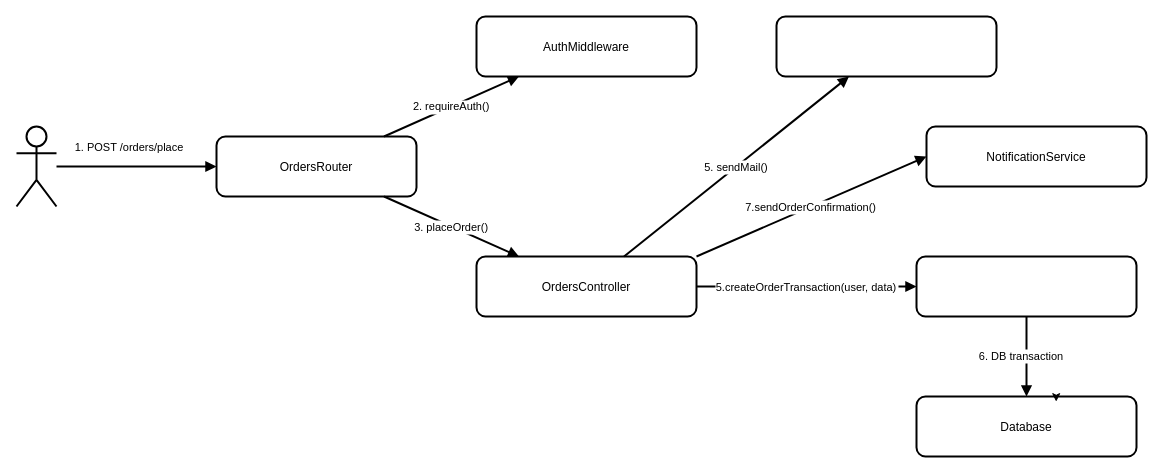
The diagram is 1163 pixels wide and 473 high, and some of its shapes have lost their labels. The shapes that lost their labels are listed below. From the top down, each one's box as (x1, y1, x2, y2) in pixels, then its label:
(775, 15, 997, 77): EmailService
(15, 125, 57, 207): User
(915, 255, 1137, 317): OrderService
